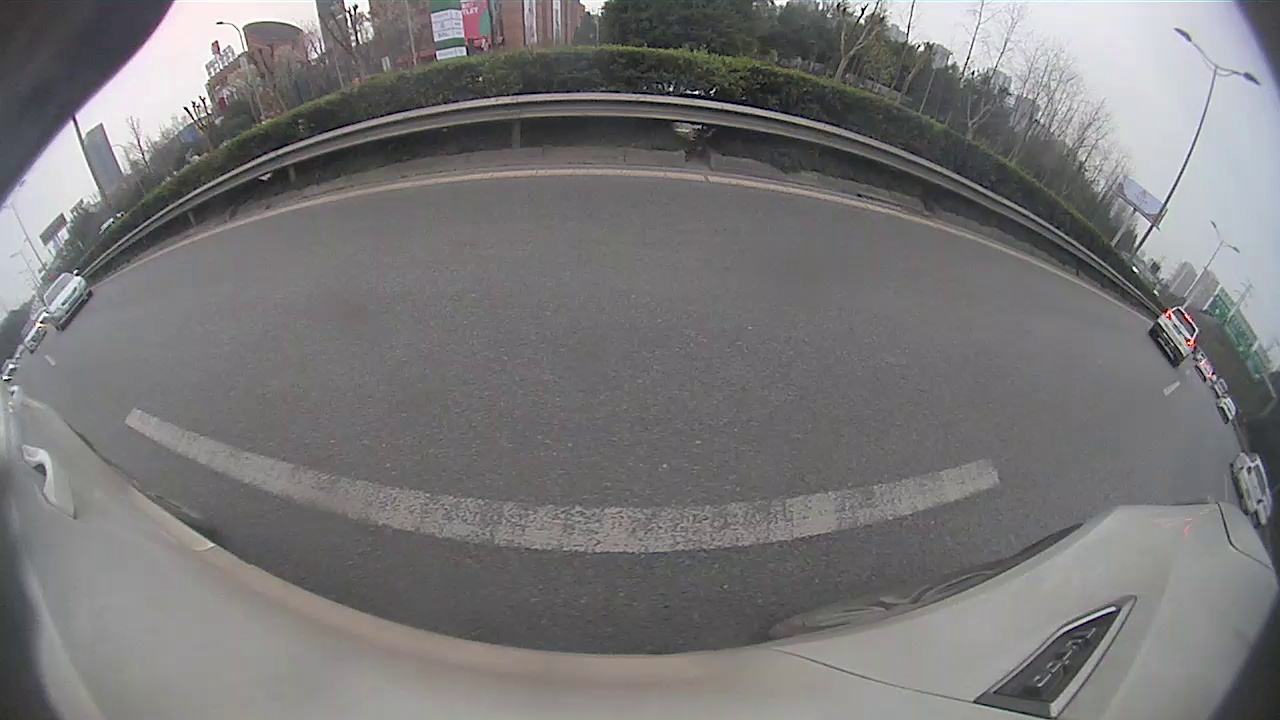car: (1150, 300, 1201, 370), (37, 274, 93, 331)
